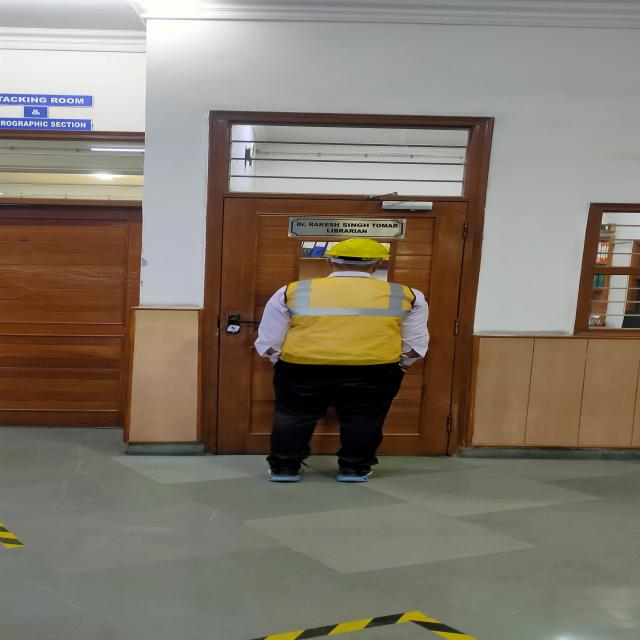safe: (259, 238, 427, 482)
